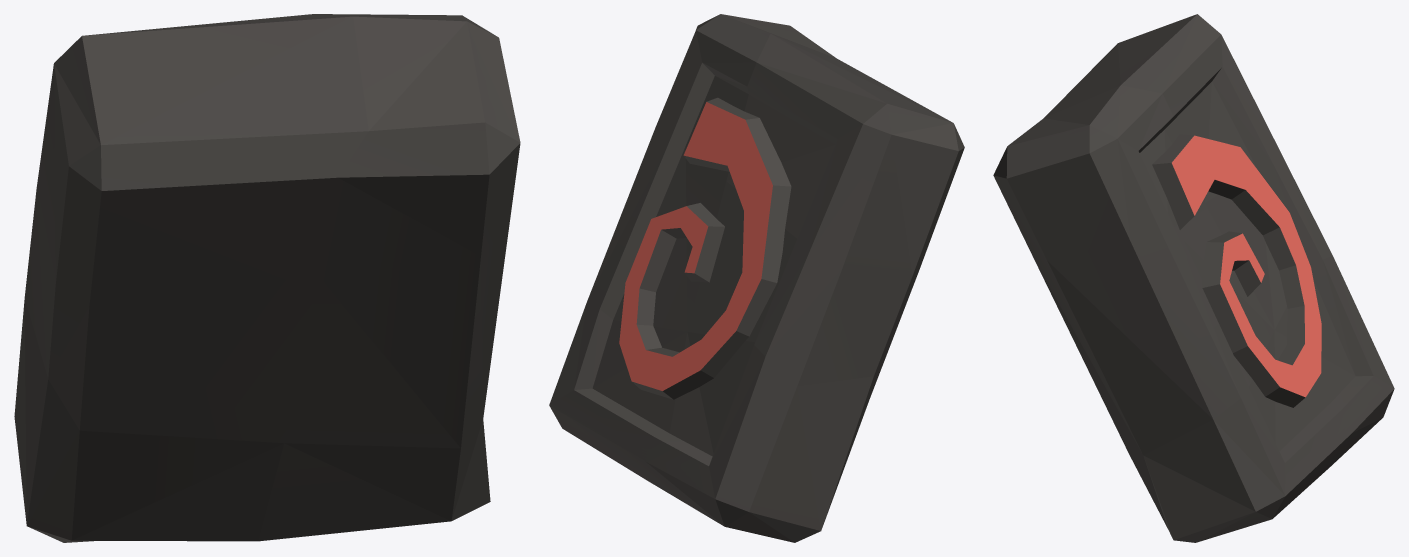
The model's file is trinketRune2.fbx.
3 renders of one model, left to right at view 1: azimuth 30°, elevation 25°; view 2: azimuth 150°, elevation 25°; view 3: azimuth 270°, elevation 25°, orthographic. The views are drawn at different scales.
Visible parts, largest first — view 1: trinketRune2; view 2: trinketRune2; view 3: trinketRune2.
Boxes of the visible parts, left/top/right/bottom form: trinketRune2: left=14, top=14, right=520, bottom=542; trinketRune2: left=549, top=14, right=964, bottom=542; trinketRune2: left=993, top=14, right=1394, bottom=542.
Size of the model in its own units: 1.18 by 1.35 by 1.19.
